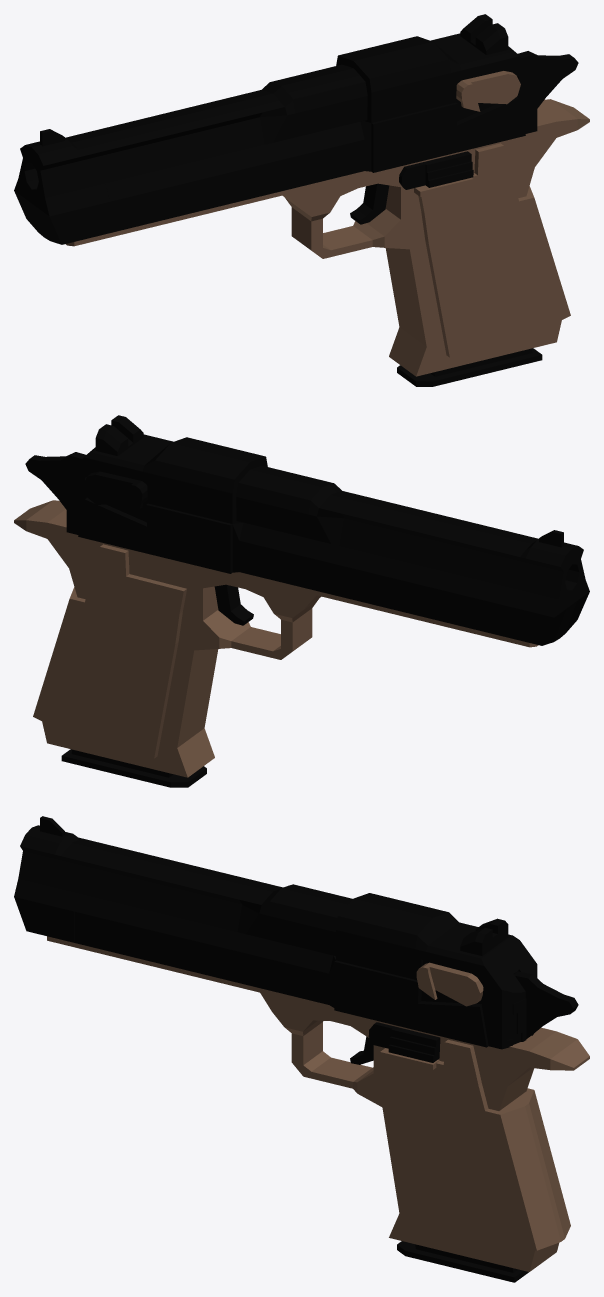
File: Silah_2.fbx
3 renders of one model, top to bottom at view 1: azimuth 30°, elevation 25°; view 2: azimuth 150°, elevation 25°; view 3: azimuth 330°, elevation 25°, orthographic.
Visible parts, largest first — view 1: 1; view 2: 1; view 3: 1.
Boxes of the visible parts, left/top/right/bottom form: 1: left=14, top=14, right=589, bottom=386; 1: left=14, top=415, right=589, bottom=787; 1: left=14, top=816, right=589, bottom=1282.
Bounding box in the file's own units: 26.46 × 15.48 × 3.76.
